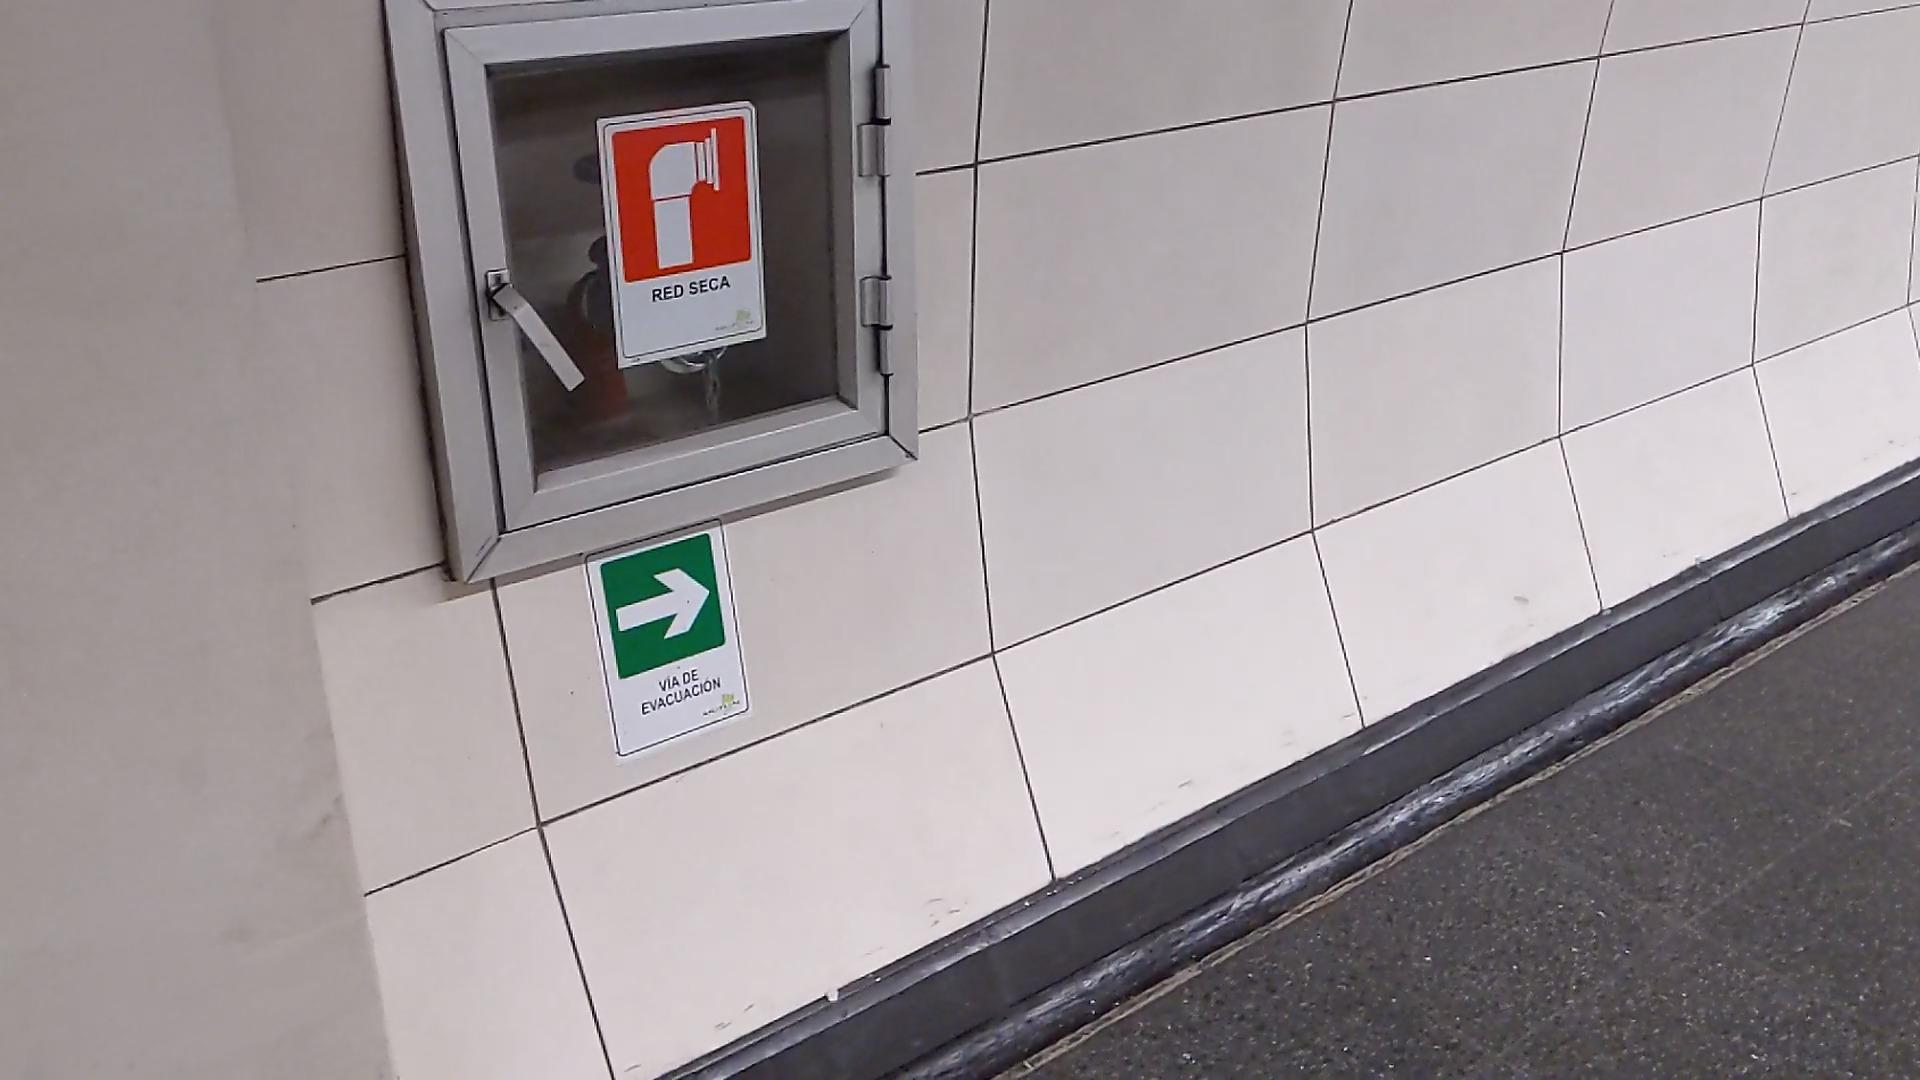emergency right arrow: (612, 564, 715, 644)
